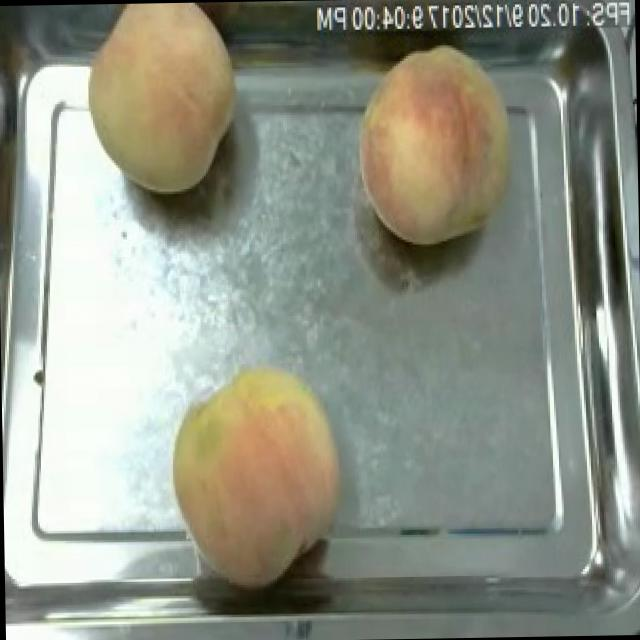Fruit: (160, 352, 352, 603), (347, 34, 531, 255), (76, 1, 248, 202)
